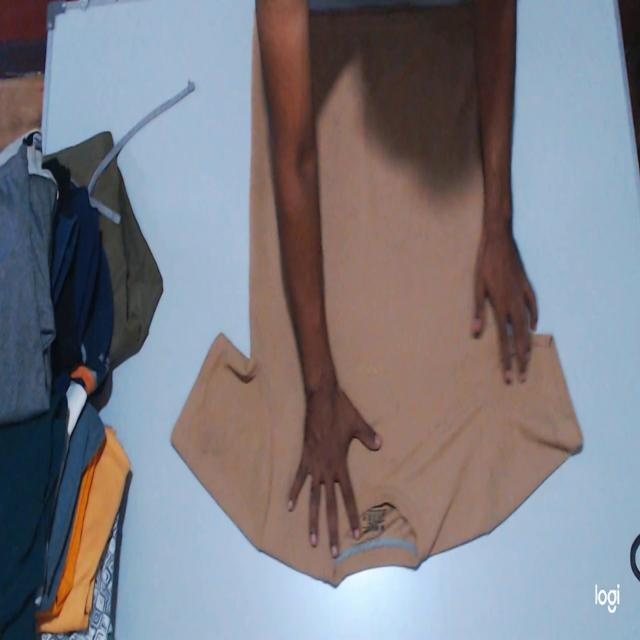new-garment: (173, 7, 582, 584)
